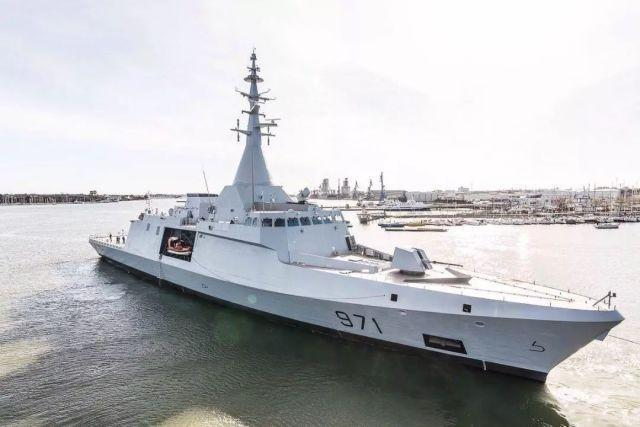warship: (73, 39, 624, 381)
